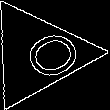O_SW: (0, 22, 76, 86)
